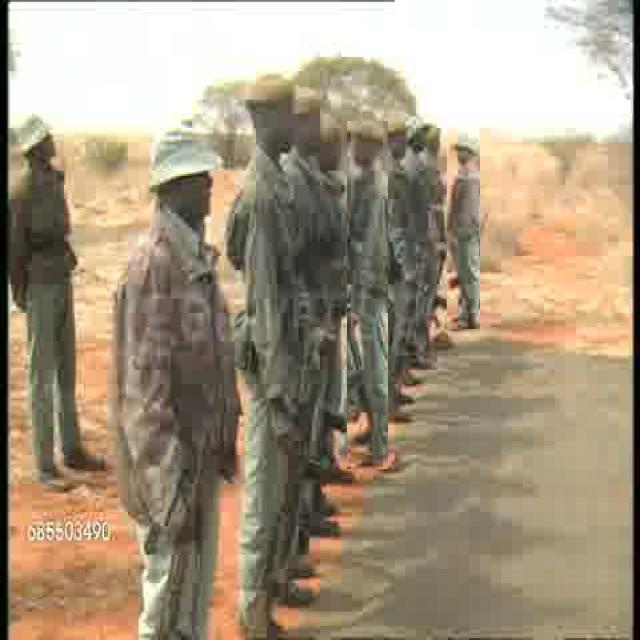poacher: (112, 116, 234, 610), (1, 95, 103, 492), (237, 46, 300, 614), (347, 121, 388, 469), (294, 69, 322, 528), (322, 114, 346, 522), (447, 126, 480, 329), (422, 112, 444, 382)
